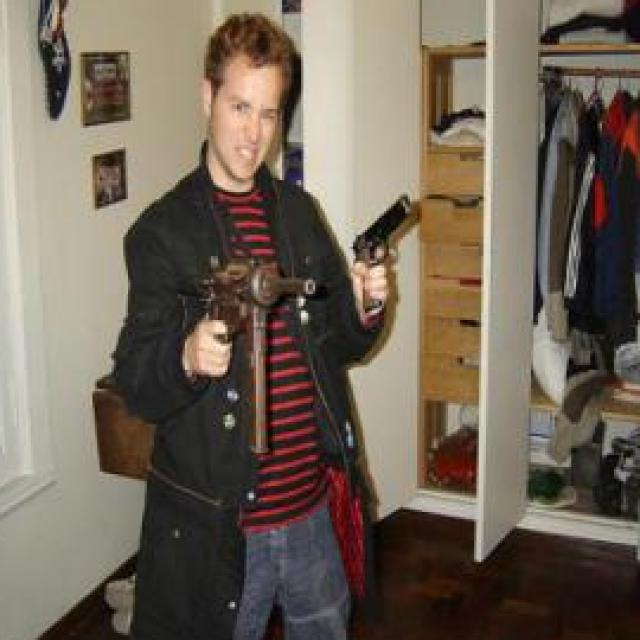pistol: (353, 190, 413, 310)
